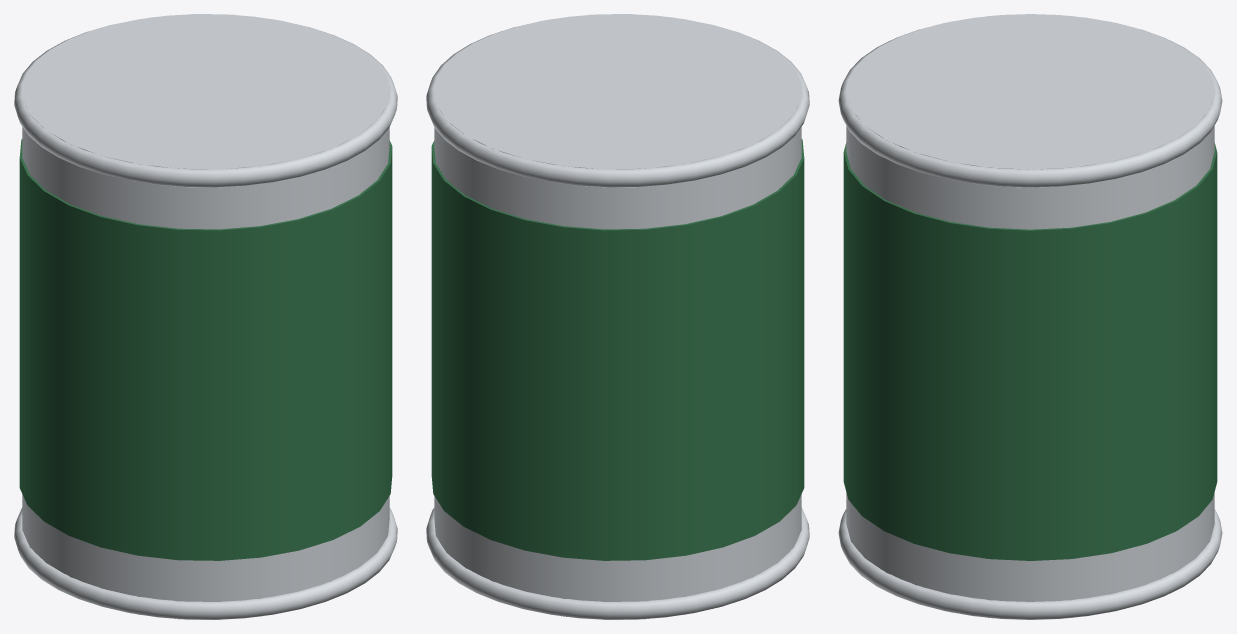
File: wp-boite-de-conserve.glb
3 renders of one model, left to right at view 1: azimuth 30°, elevation 25°; view 2: azimuth 150°, elevation 25°; view 3: azimuth 270°, elevation 25°, orthographic.
Visible parts, largest first — view 1: wp-boite-de-conserve; view 2: wp-boite-de-conserve; view 3: wp-boite-de-conserve.
Boxes of the visible parts, x1,y1,x2,y2 form: wp-boite-de-conserve: [14, 14, 397, 619]; wp-boite-de-conserve: [426, 14, 809, 619]; wp-boite-de-conserve: [838, 14, 1222, 619].
Bounding box in the file's own units: 0.085 × 0.11 × 0.085.
